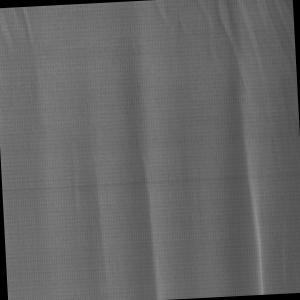Wrinkle: (104, 9, 181, 300), (209, 70, 290, 298), (63, 84, 115, 300), (152, 1, 296, 72), (1, 6, 52, 136)
